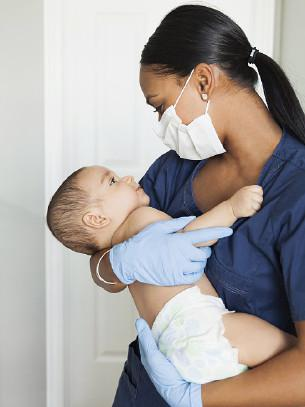NONE: (88, 168, 151, 209)
OK: (145, 76, 226, 157)
